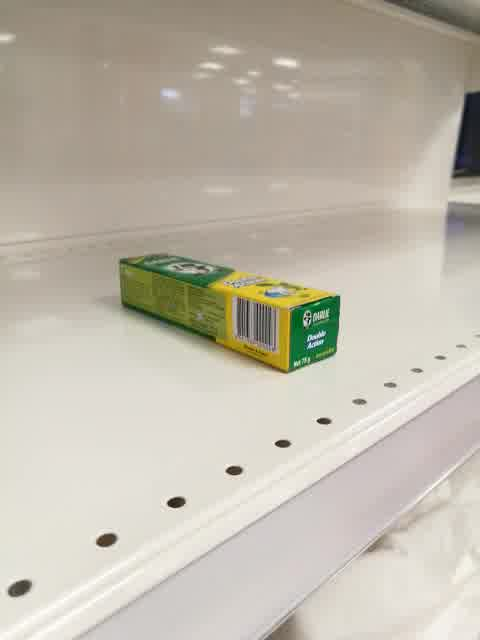toothpaste: (120, 252, 342, 375)
